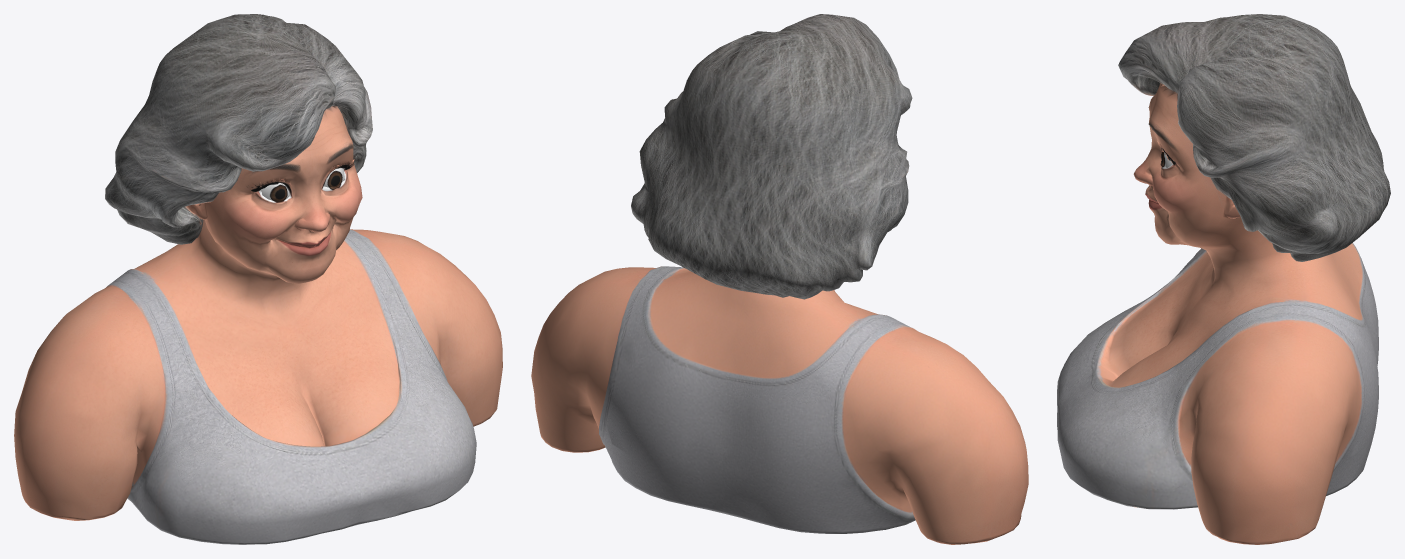
Rendered from tete-aine.glb.
3 views of the same model, side by side, from view 1: azimuth 30°, elevation 25°; view 2: azimuth 150°, elevation 25°; view 3: azimuth 270°, elevation 25° (orthographic). The views are drawn at different scales.
Bounding box in the file's own units: 0.9556 × 0.8311 × 0.6045.
1 material, 1 textured.
